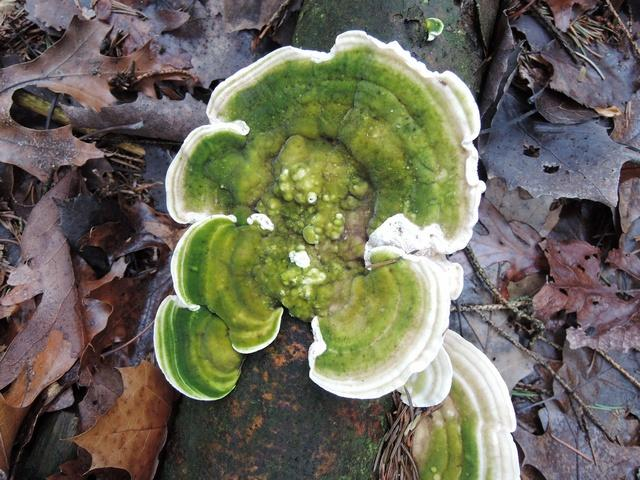Non-edible Mushroom: (153, 28, 488, 404)
